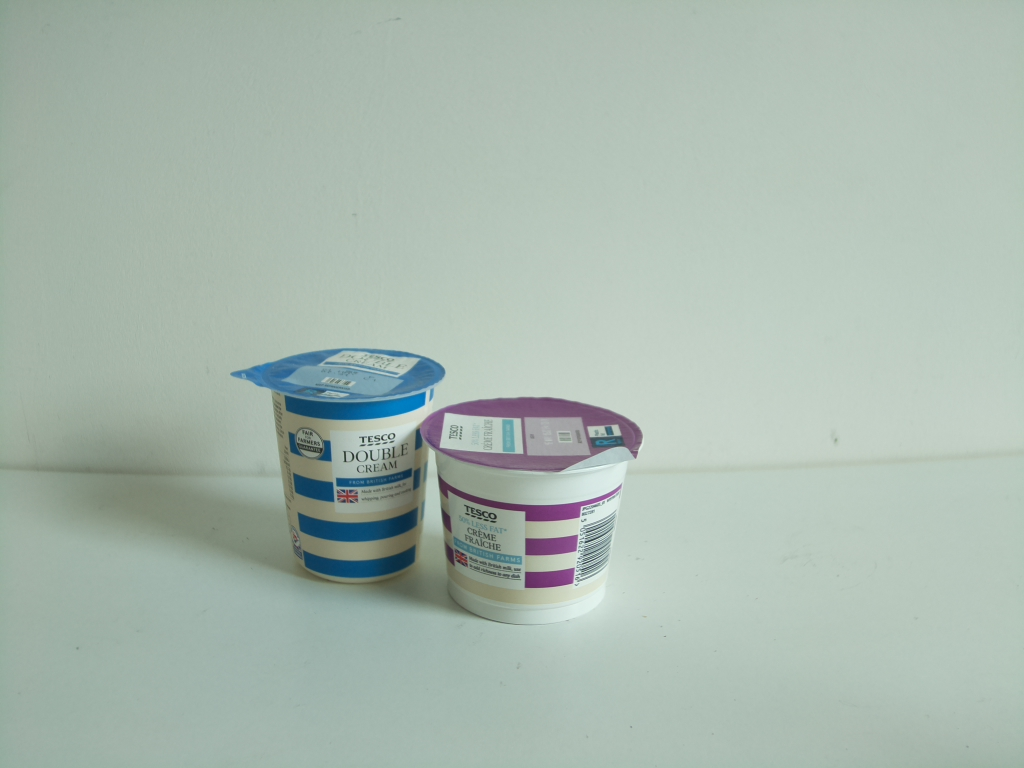cream: (236, 349, 449, 587), (426, 398, 640, 626)
